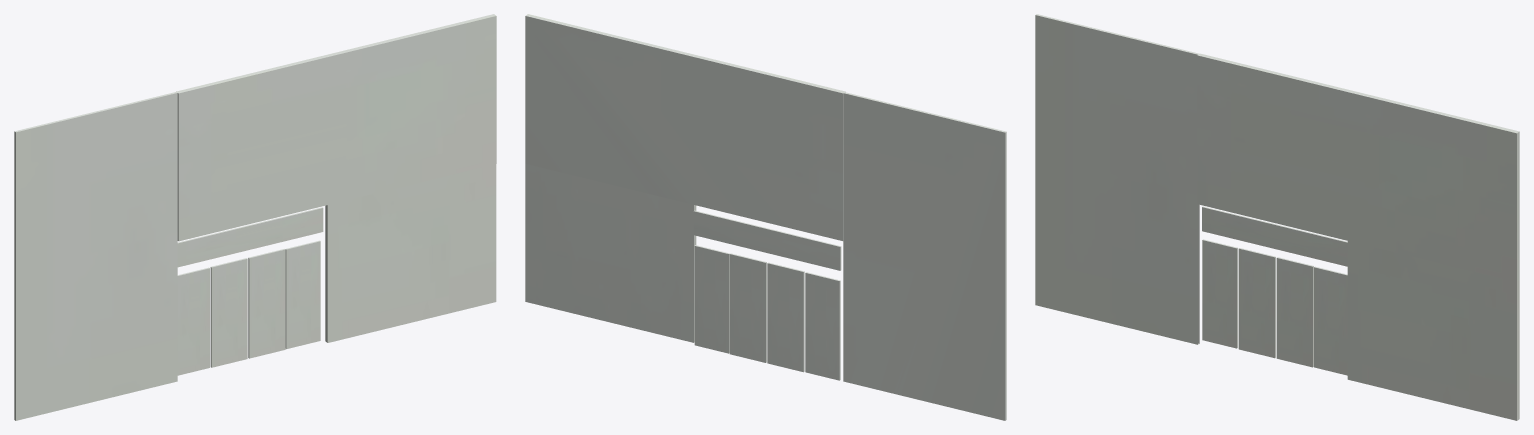
File: vidrios_lobby.obj
3 renders of one model, left to right at view 1: azimuth 30°, elevation 25°; view 2: azimuth 150°, elevation 25°; view 3: azimuth 330°, elevation 25°, orthographic.
Visible parts, largest first — view 1: pCube60 polySurface170 polySurface172, pCube60 polySurface171 polySurface170, polySurface169 pCube60, pCube57, pCube58, pCube61, pCube59, pCube56; view 2: pCube60 polySurface170 polySurface172, pCube60 polySurface171 polySurface170, polySurface169 pCube60, pCube57, pCube58, pCube61, pCube56, pCube59; view 3: pCube60 polySurface170 polySurface172, pCube60 polySurface171 polySurface170, polySurface169 pCube60, pCube57, pCube58, pCube61, pCube56, pCube59.
Boxes of the visible parts, x1=… form: pCube60 polySurface170 polySurface172: x1=176, y1=14, x2=496, y2=241; pCube60 polySurface171 polySurface170: x1=14, y1=92, x2=177, y2=420; polySurface169 pCube60: x1=325, y1=164, x2=496, y2=342; pCube57: x1=210, y1=258, x2=247, y2=367; pCube58: x1=248, y1=249, x2=285, y2=358; pCube61: x1=177, y1=207, x2=323, y2=267; pCube59: x1=285, y1=240, x2=320, y2=349; pCube56: x1=177, y1=267, x2=209, y2=375; pCube60 polySurface170 polySurface172: x1=525, y1=14, x2=845, y2=240; pCube60 polySurface171 polySurface170: x1=843, y1=92, x2=1006, y2=420; polySurface169 pCube60: x1=525, y1=164, x2=696, y2=342; pCube57: x1=767, y1=262, x2=804, y2=372; pCube58: x1=729, y1=253, x2=766, y2=362; pCube61: x1=693, y1=210, x2=841, y2=270; pCube56: x1=805, y1=272, x2=840, y2=380; pCube59: x1=694, y1=245, x2=729, y2=353; pCube60 polySurface170 polySurface172: x1=1197, y1=53, x2=1519, y2=281; pCube60 polySurface171 polySurface170: x1=1035, y1=14, x2=1199, y2=344; polySurface169 pCube60: x1=1347, y1=241, x2=1519, y2=420; pCube57: x1=1238, y1=248, x2=1275, y2=358; pCube58: x1=1276, y1=257, x2=1313, y2=367; pCube61: x1=1202, y1=206, x2=1347, y2=266; pCube56: x1=1202, y1=239, x2=1237, y2=348; pCube59: x1=1314, y1=266, x2=1347, y2=375.
Bounding box in the file's own units: 10.57 × 6.07 × 0.192.
1 material, 1 textured.
